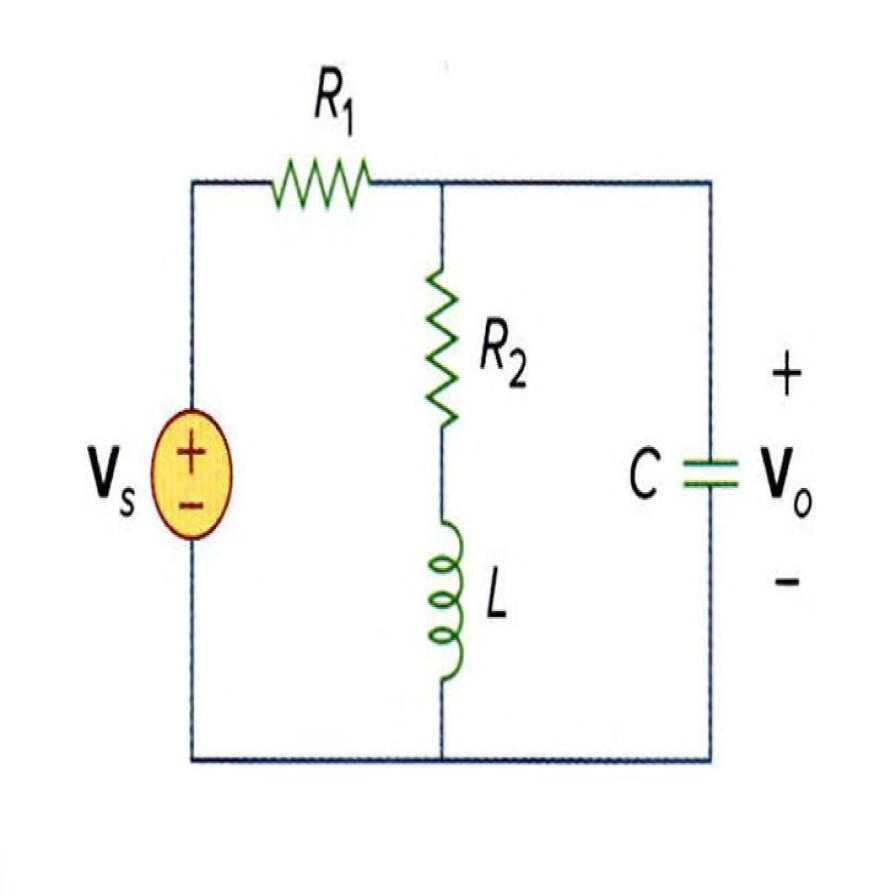C2: (670, 421, 749, 538)
L2: (408, 506, 476, 708)
R1: (246, 140, 388, 239)
R2: (409, 252, 469, 450)
V1: (142, 403, 242, 553)
